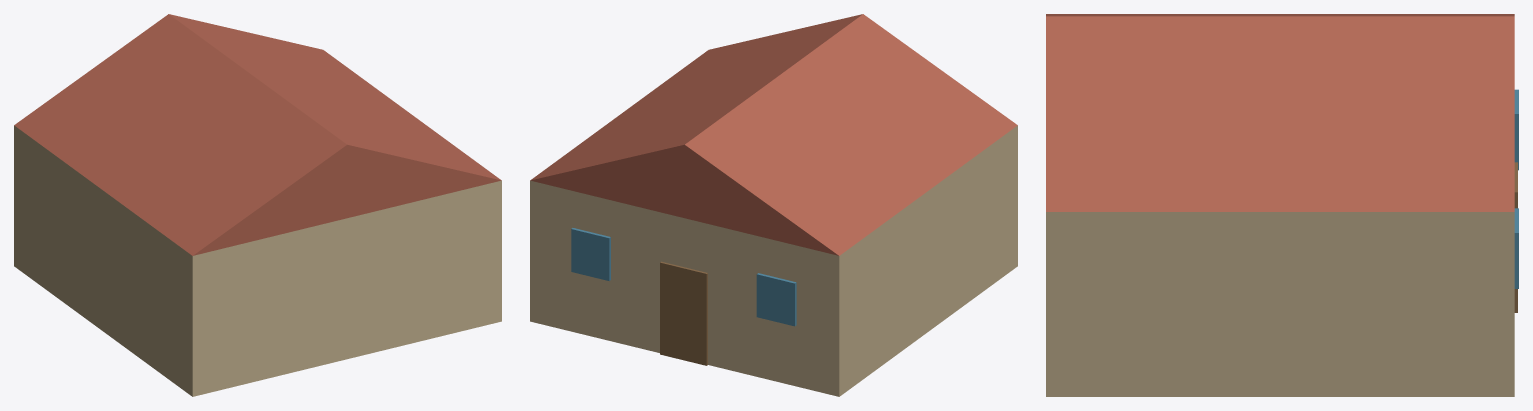
The model's file is bakery.glb.
The picture shows the model from 3 angles, left to right: view 1: azimuth 30°, elevation 25°; view 2: azimuth 150°, elevation 25°; view 3: azimuth 270°, elevation 25°; orthographic projection. The views are drawn at different scales.
Bounding box in the file's own units: 5.28 × 3.5 × 5.33.
